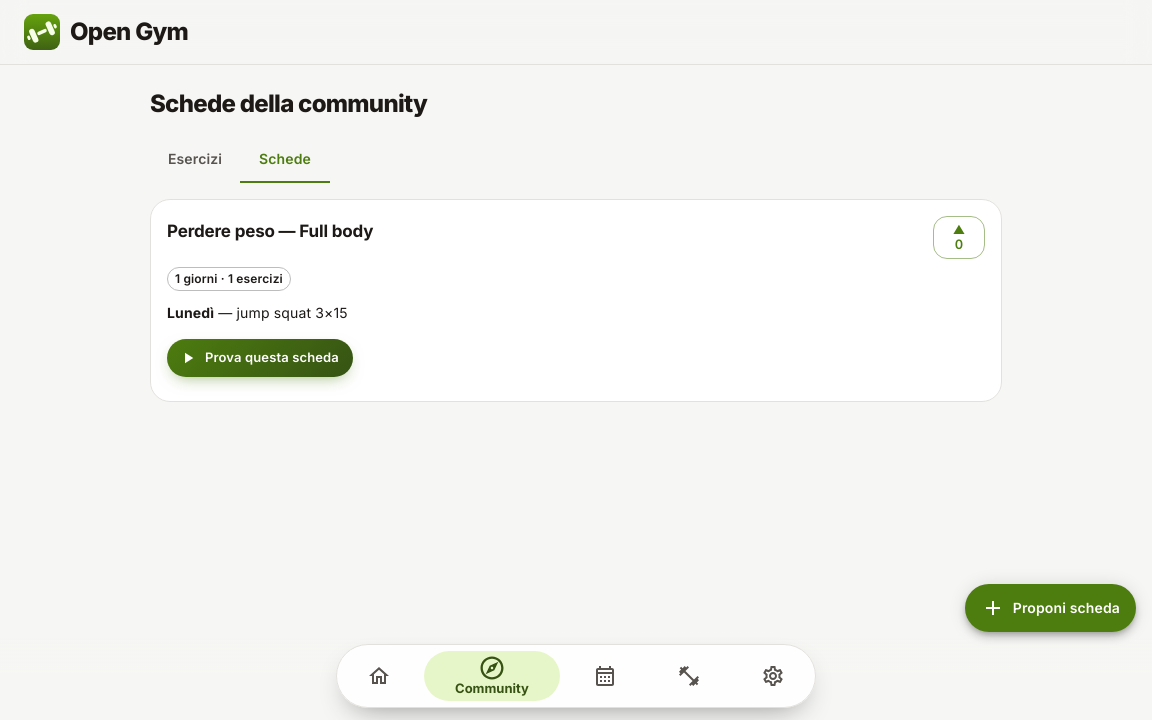
Scenario: le schede proposte dalla community › il voto va al worker e il conteggio adottato è il suo
Click the button named "Vota Perdere peso — Full body". click: (959, 237)
box: [933,216,985,259]
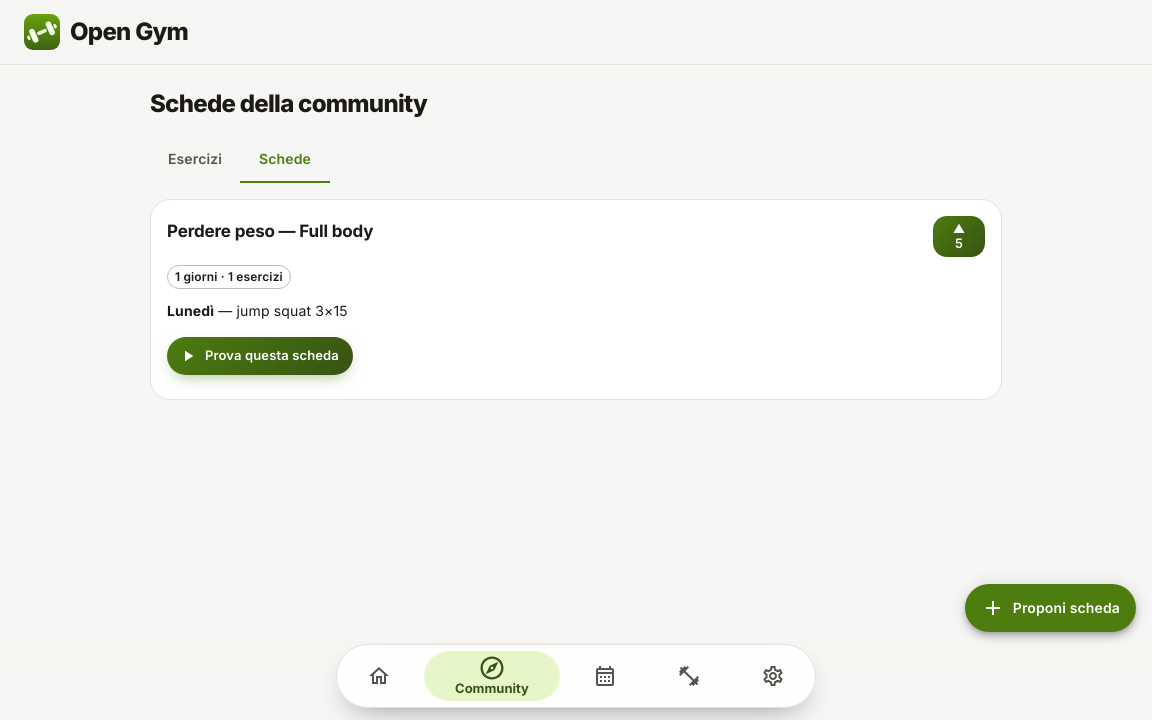
Now the text "5" is shown, box [955,236,963,251]
